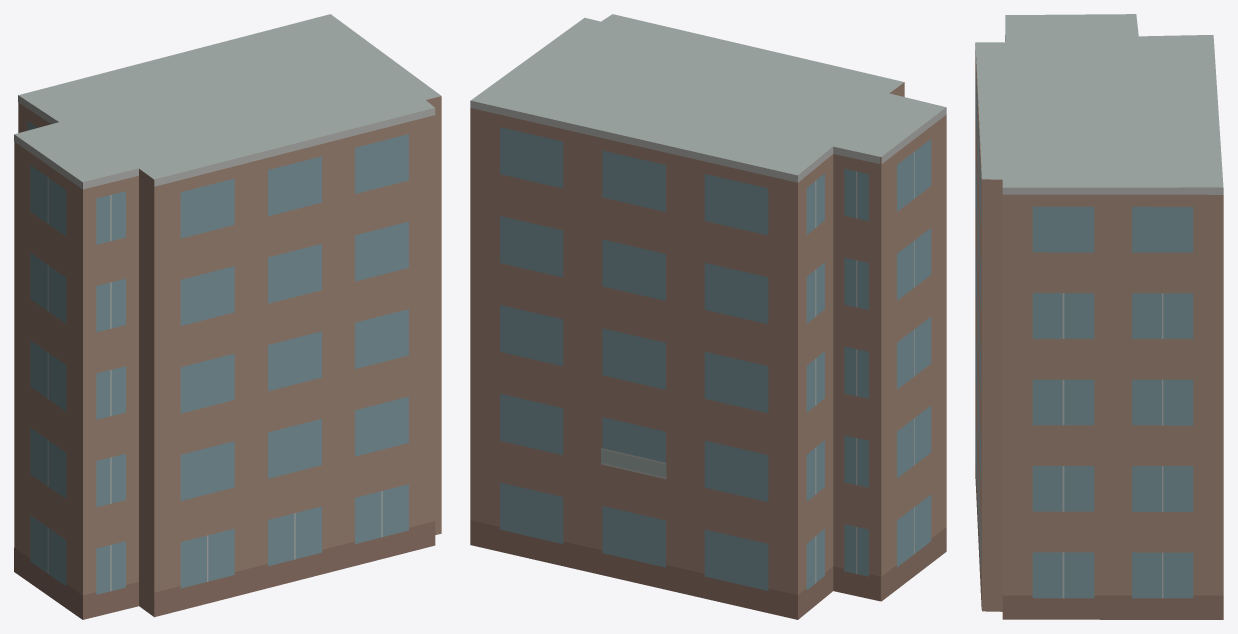
The model's file is survey-upis-32741044.glb.
3 renders of one model, left to right at view 1: azimuth 30°, elevation 25°; view 2: azimuth 150°, elevation 25°; view 3: azimuth 270°, elevation 25°, orthographic. The views are drawn at different scales.
Parts seen in each view (by area): view 1: survey-upis-32741044.tmp; view 2: survey-upis-32741044.tmp; view 3: survey-upis-32741044.tmp.
Part boxes in pixels (box(x1,y1,x2,y2)): survey-upis-32741044.tmp: box(14, 14, 441, 619); survey-upis-32741044.tmp: box(470, 14, 946, 619); survey-upis-32741044.tmp: box(975, 14, 1223, 619).
Bounding box in the file's own units: 12.86 × 14.9 × 7.76.
